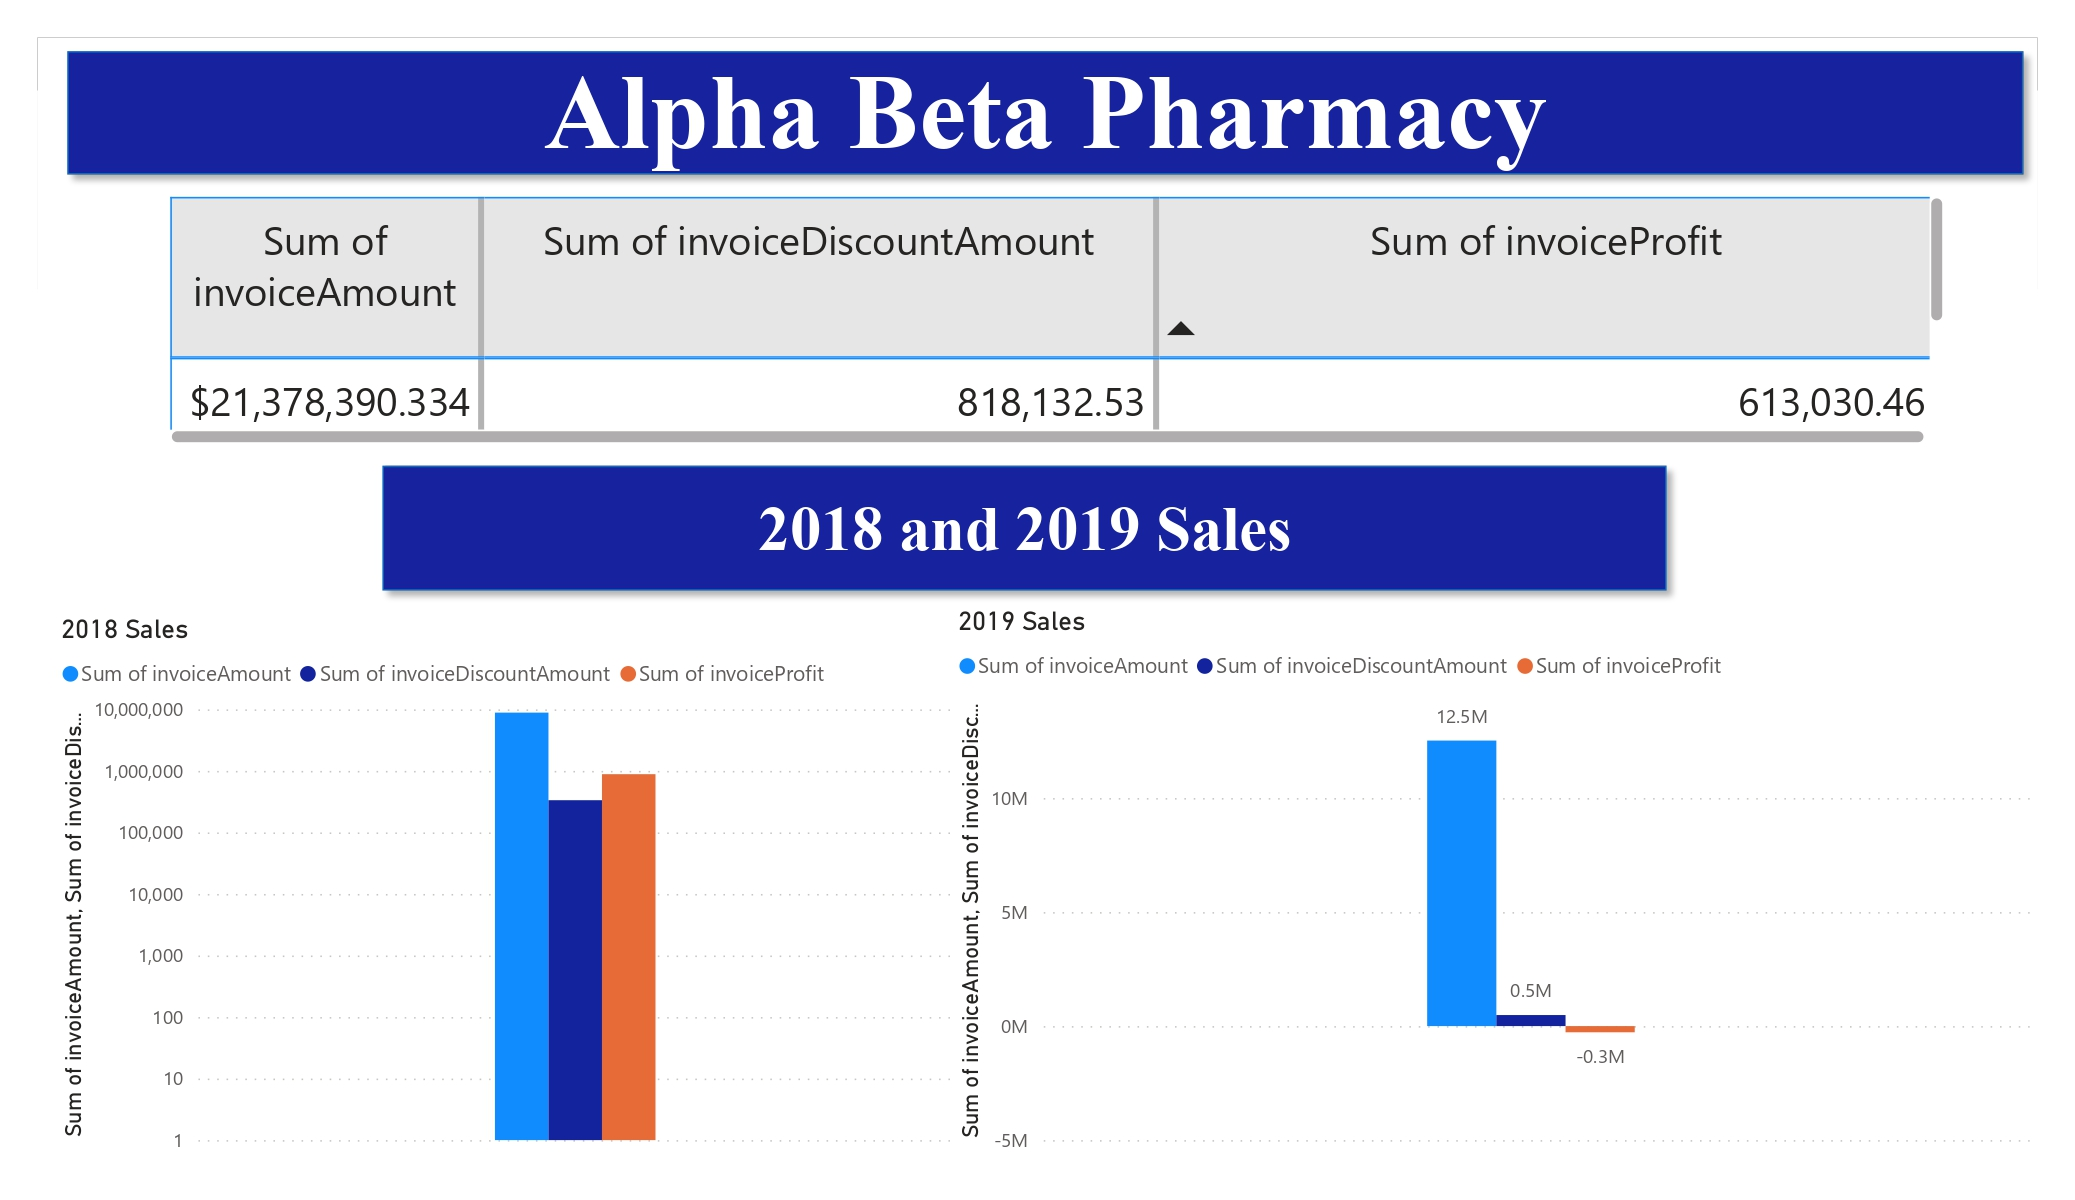

What the dashboard file says about the page in this screenshot:
{"tool":"powerbi","page":{"name":"Page 1","canvas":[1280,720],"ordinal":0},"visuals":[{"type":"shape","box":[10.1,0,1269.9,97.4],"z":0},{"type":"shape","box":[211.7,265.4,839.9,97.4],"z":1000},{"type":"tableEx","fields":{"Values":["Sum(invoice.invoiceAmount)","Sum(invoice.invoiceDiscountAmount)","Sum(invoice.invoiceProfit)"]},"box":[79,97.4,1145.6,168],"z":3000},{"type":"lineClusteredColumnComboChart","title":"2018 Sales","fields":{"Y":["Sum(2018 profit.invoiceAmount)","Sum(2018 profit.invoiceDiscountAmount)","Sum(2018 profit.invoiceProfit)"]},"box":[10.2,362.9,585.4,357.1],"z":3001},{"type":"lineClusteredColumnComboChart","title":"2019 Sales","fields":{"Y":["Sum(2019 profit.invoiceAmount)","Sum(2019 profit.invoiceDiscountAmount)","Sum(2019 profit.invoiceProfit)"]},"box":[583.9,362.9,696.6,357.1],"z":3002}]}

Visuals, with their boxes in screenshot pixels (x1, y1, x2, y2):
shape: (left=53, top=38, right=2038, bottom=190)
shape: (left=368, top=452, right=1681, bottom=604)
tableEx - Sum(invoice.invoiceAmount) x Sum(invoice.invoiceDiscountAmount): (left=161, top=190, right=1951, bottom=452)
"2018 Sales" lineClusteredColumnComboChart: (left=53, top=605, right=968, bottom=1162)
"2019 Sales" lineClusteredColumnComboChart: (left=950, top=605, right=2038, bottom=1162)
